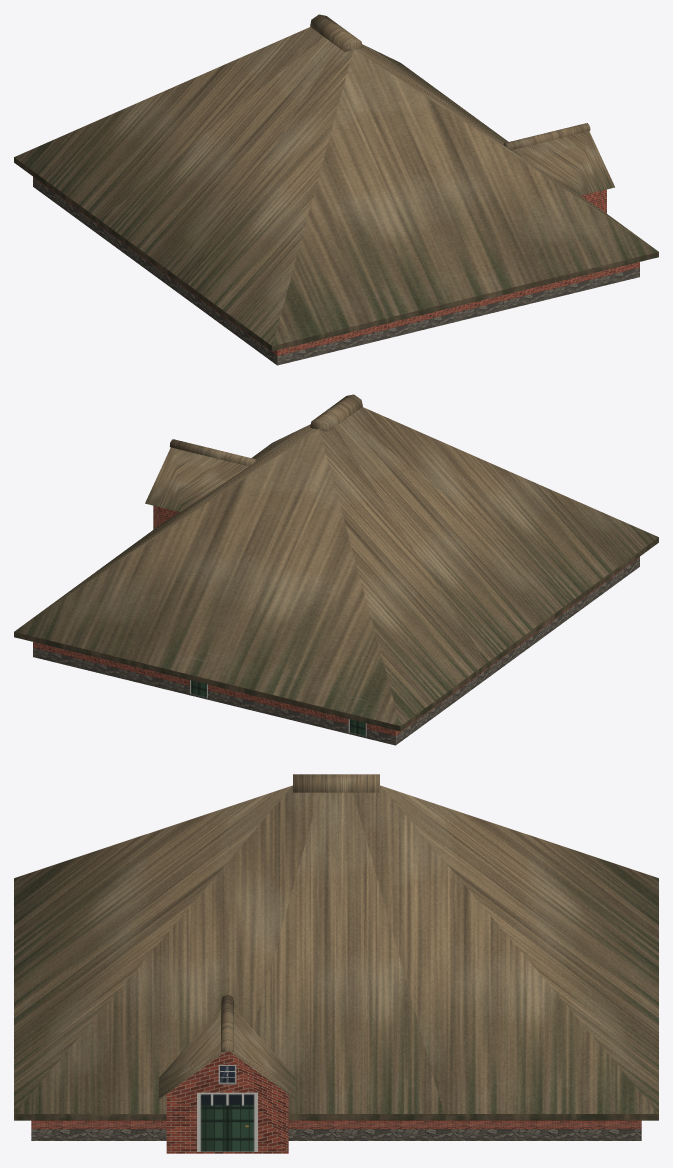
The model's file is SM_Farm_Haubarg.fbx.
The picture shows the model from 3 angles, top to bottom: view 1: azimuth 30°, elevation 25°; view 2: azimuth 150°, elevation 25°; view 3: azimuth 270°, elevation 25°; orthographic projection. The views are drawn at different scales.
Visible parts, largest first — view 1: SM_Farm_Haubarg; view 2: SM_Farm_Haubarg; view 3: SM_Farm_Haubarg.
Part boxes in pixels (<box>): SM_Farm_Haubarg: <box>14,14,658,365</box>; SM_Farm_Haubarg: <box>14,394,658,745</box>; SM_Farm_Haubarg: <box>14,774,658,1153</box>.
Size of the model in its own units: 2655 by 2960 by 1295.
1 material, 1 textured.
